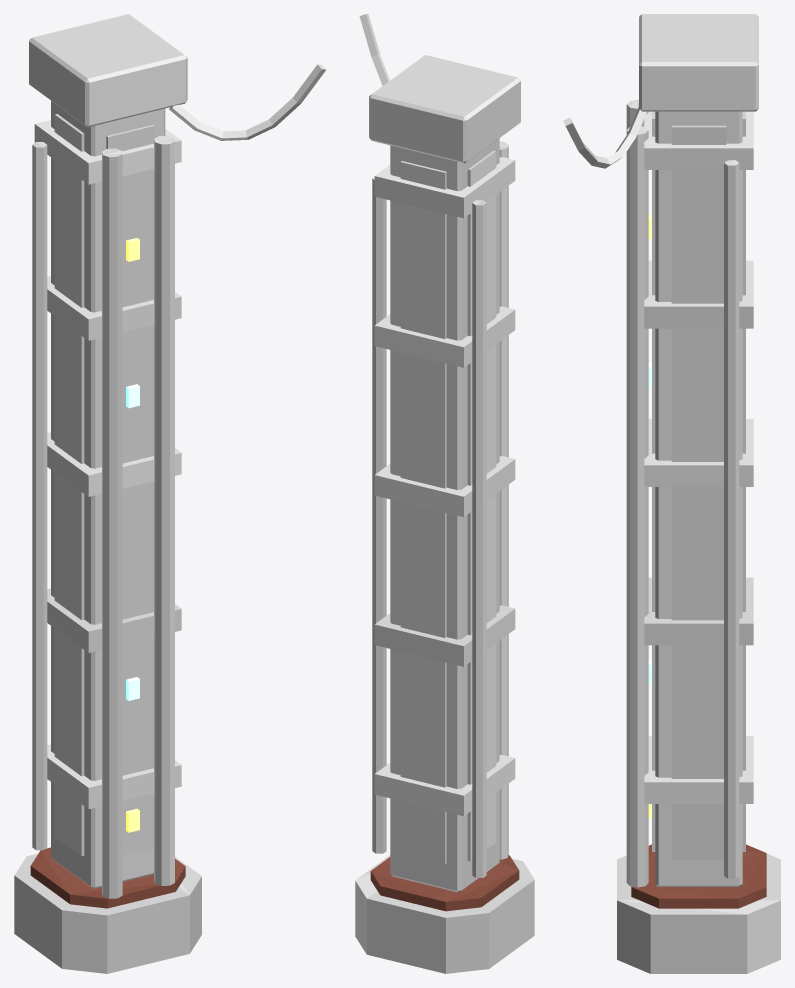
File: Machine_Column.fbx
The picture shows the model from 3 angles, left to right: view 1: azimuth 30°, elevation 25°; view 2: azimuth 150°, elevation 25°; view 3: azimuth 270°, elevation 25°; orthographic projection. The views are drawn at different scales.
Visible parts, largest first — view 1: Machine_Column; view 2: Machine_Column; view 3: Machine_Column.
Boxes of the visible parts, x1=… form: Machine_Column: x1=14, y1=14, x2=326, y2=973; Machine_Column: x1=355, y1=14, x2=534, y2=973; Machine_Column: x1=563, y1=14, x2=780, y2=973.
Size of the model in its own units: 2.39 by 9.1 by 1.99.
